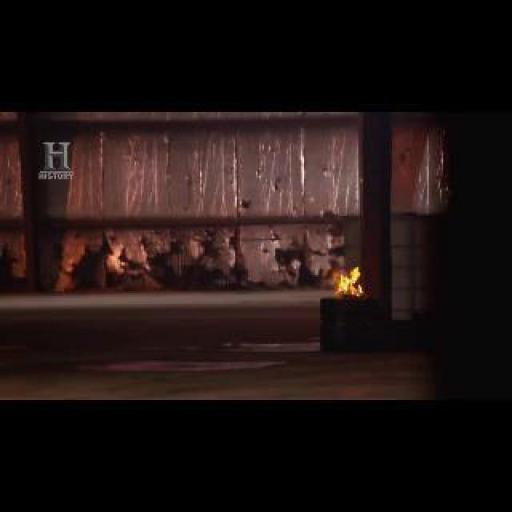smoke: (331, 259, 371, 298)
